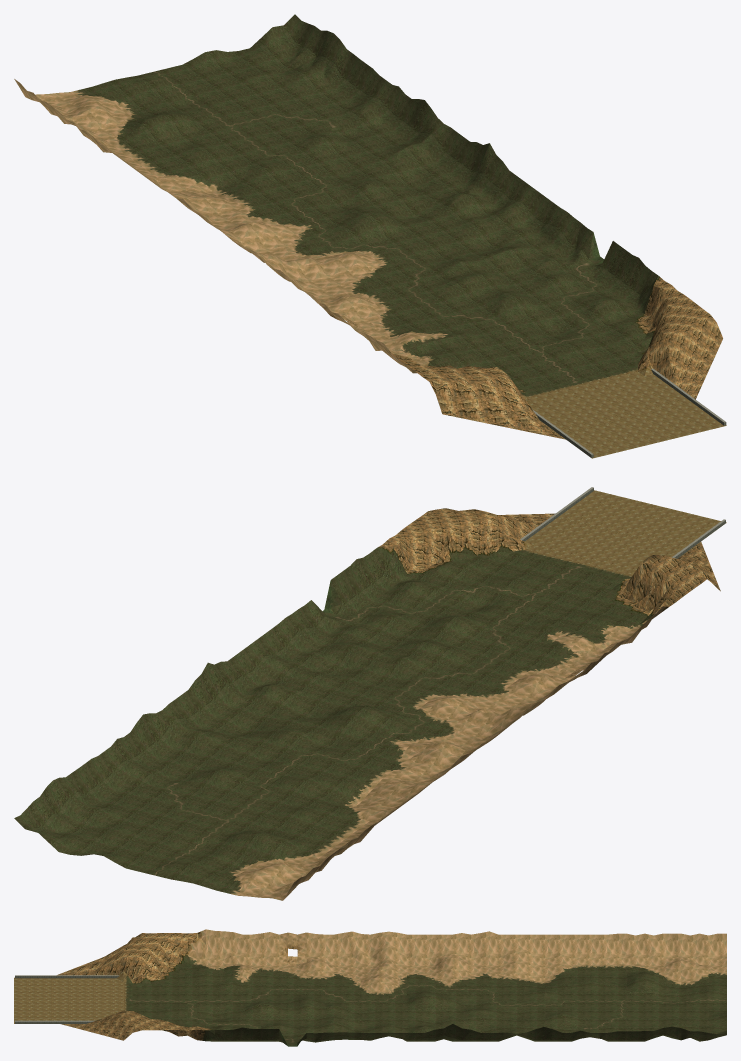
Rendered from ecommons-mesh1.fbx.
The picture shows the model from 3 angles, top to bottom: view 1: azimuth 30°, elevation 25°; view 2: azimuth 150°, elevation 25°; view 3: azimuth 270°, elevation 25°; orthographic projection. The views are drawn at different scales.
Visible parts, largest first — view 1: ECMesh; view 2: ECMesh; view 3: ECMesh.
Boxes of the visible parts, <box> form: ECMesh: <box>14,14,726,458</box>; ECMesh: <box>14,487,726,900</box>; ECMesh: <box>14,929,726,1046</box>.
Size of the model in its own units: 2502 by 382 by 7801.
